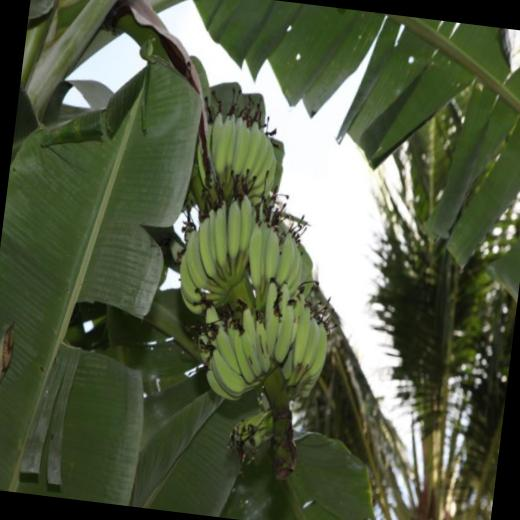Banana: (146, 75, 366, 444)
